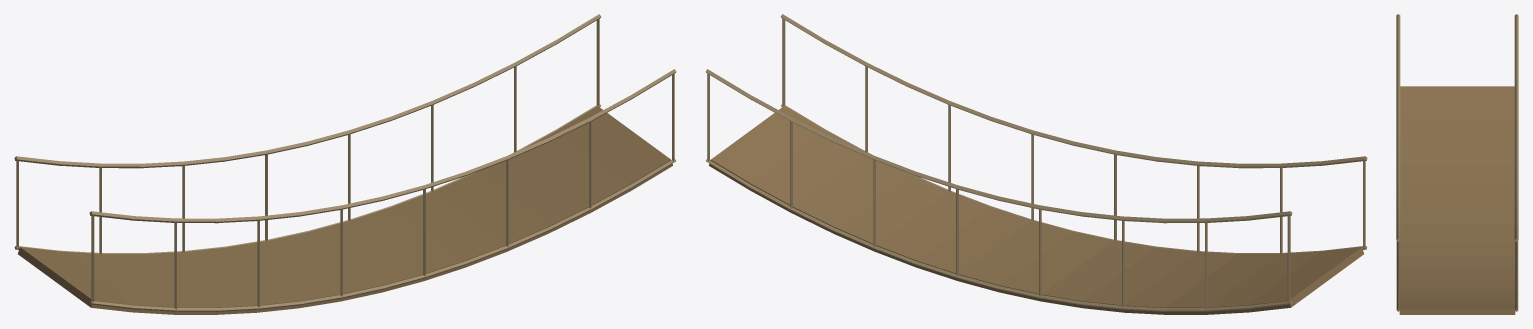
File: K_RopeBridge.glb
The picture shows the model from 3 angles, left to right: view 1: azimuth 30°, elevation 25°; view 2: azimuth 150°, elevation 25°; view 3: azimuth 270°, elevation 25°; orthographic projection. The views are drawn at different scales.
Visible parts, largest first — view 1: K_RopeBridge; view 2: K_RopeBridge; view 3: K_RopeBridge.
Boxes of the visible parts, x1=… form: K_RopeBridge: x1=14, y1=14, x2=676, y2=314; K_RopeBridge: x1=705, y1=14, x2=1367, y2=314; K_RopeBridge: x1=1396, y1=14, x2=1518, y2=314.
Bounding box in the file's own units: 6.06 × 1.51 × 1.39.
